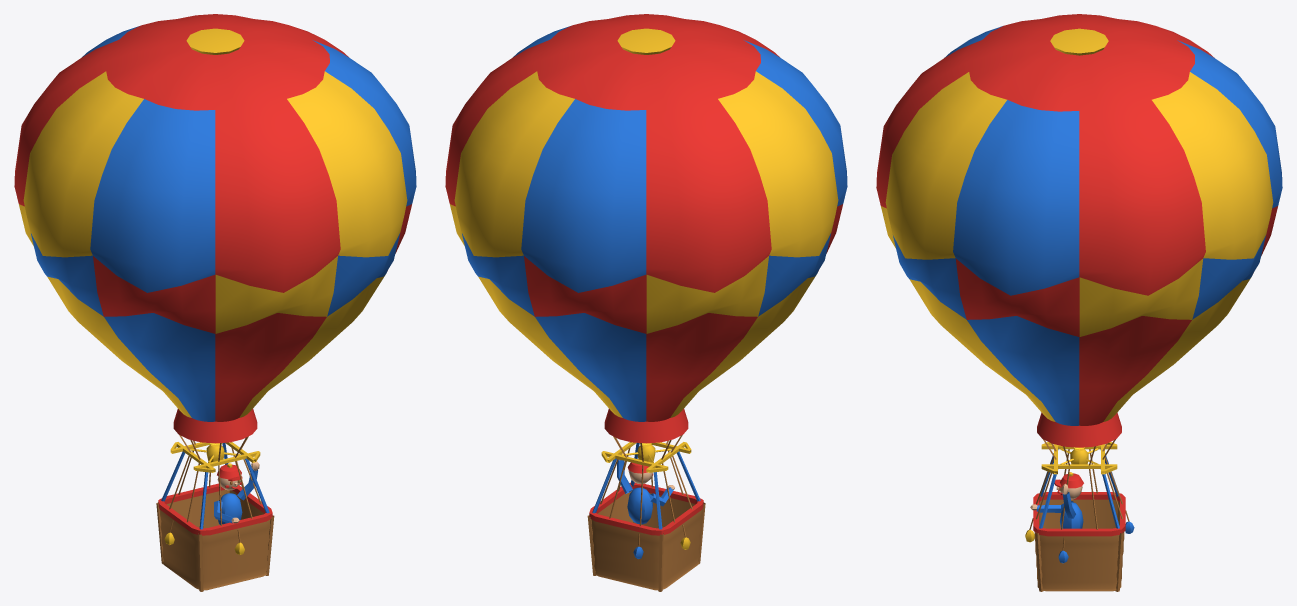
File: hot_air_balloon.glb
3 views of the same model, side by side, from view 1: azimuth 30°, elevation 25°; view 2: azimuth 150°, elevation 25°; view 3: azimuth 270°, elevation 25° (orthographic).
Visible parts, largest first — view 1: body; view 2: body; view 3: body.
Part boxes in pixels (bbox=[...]): body: bbox=[14, 14, 416, 591]; body: bbox=[445, 14, 847, 591]; body: bbox=[876, 14, 1282, 591].
Bounding box in the file's own units: 6.22 × 9.08 × 6.23.
